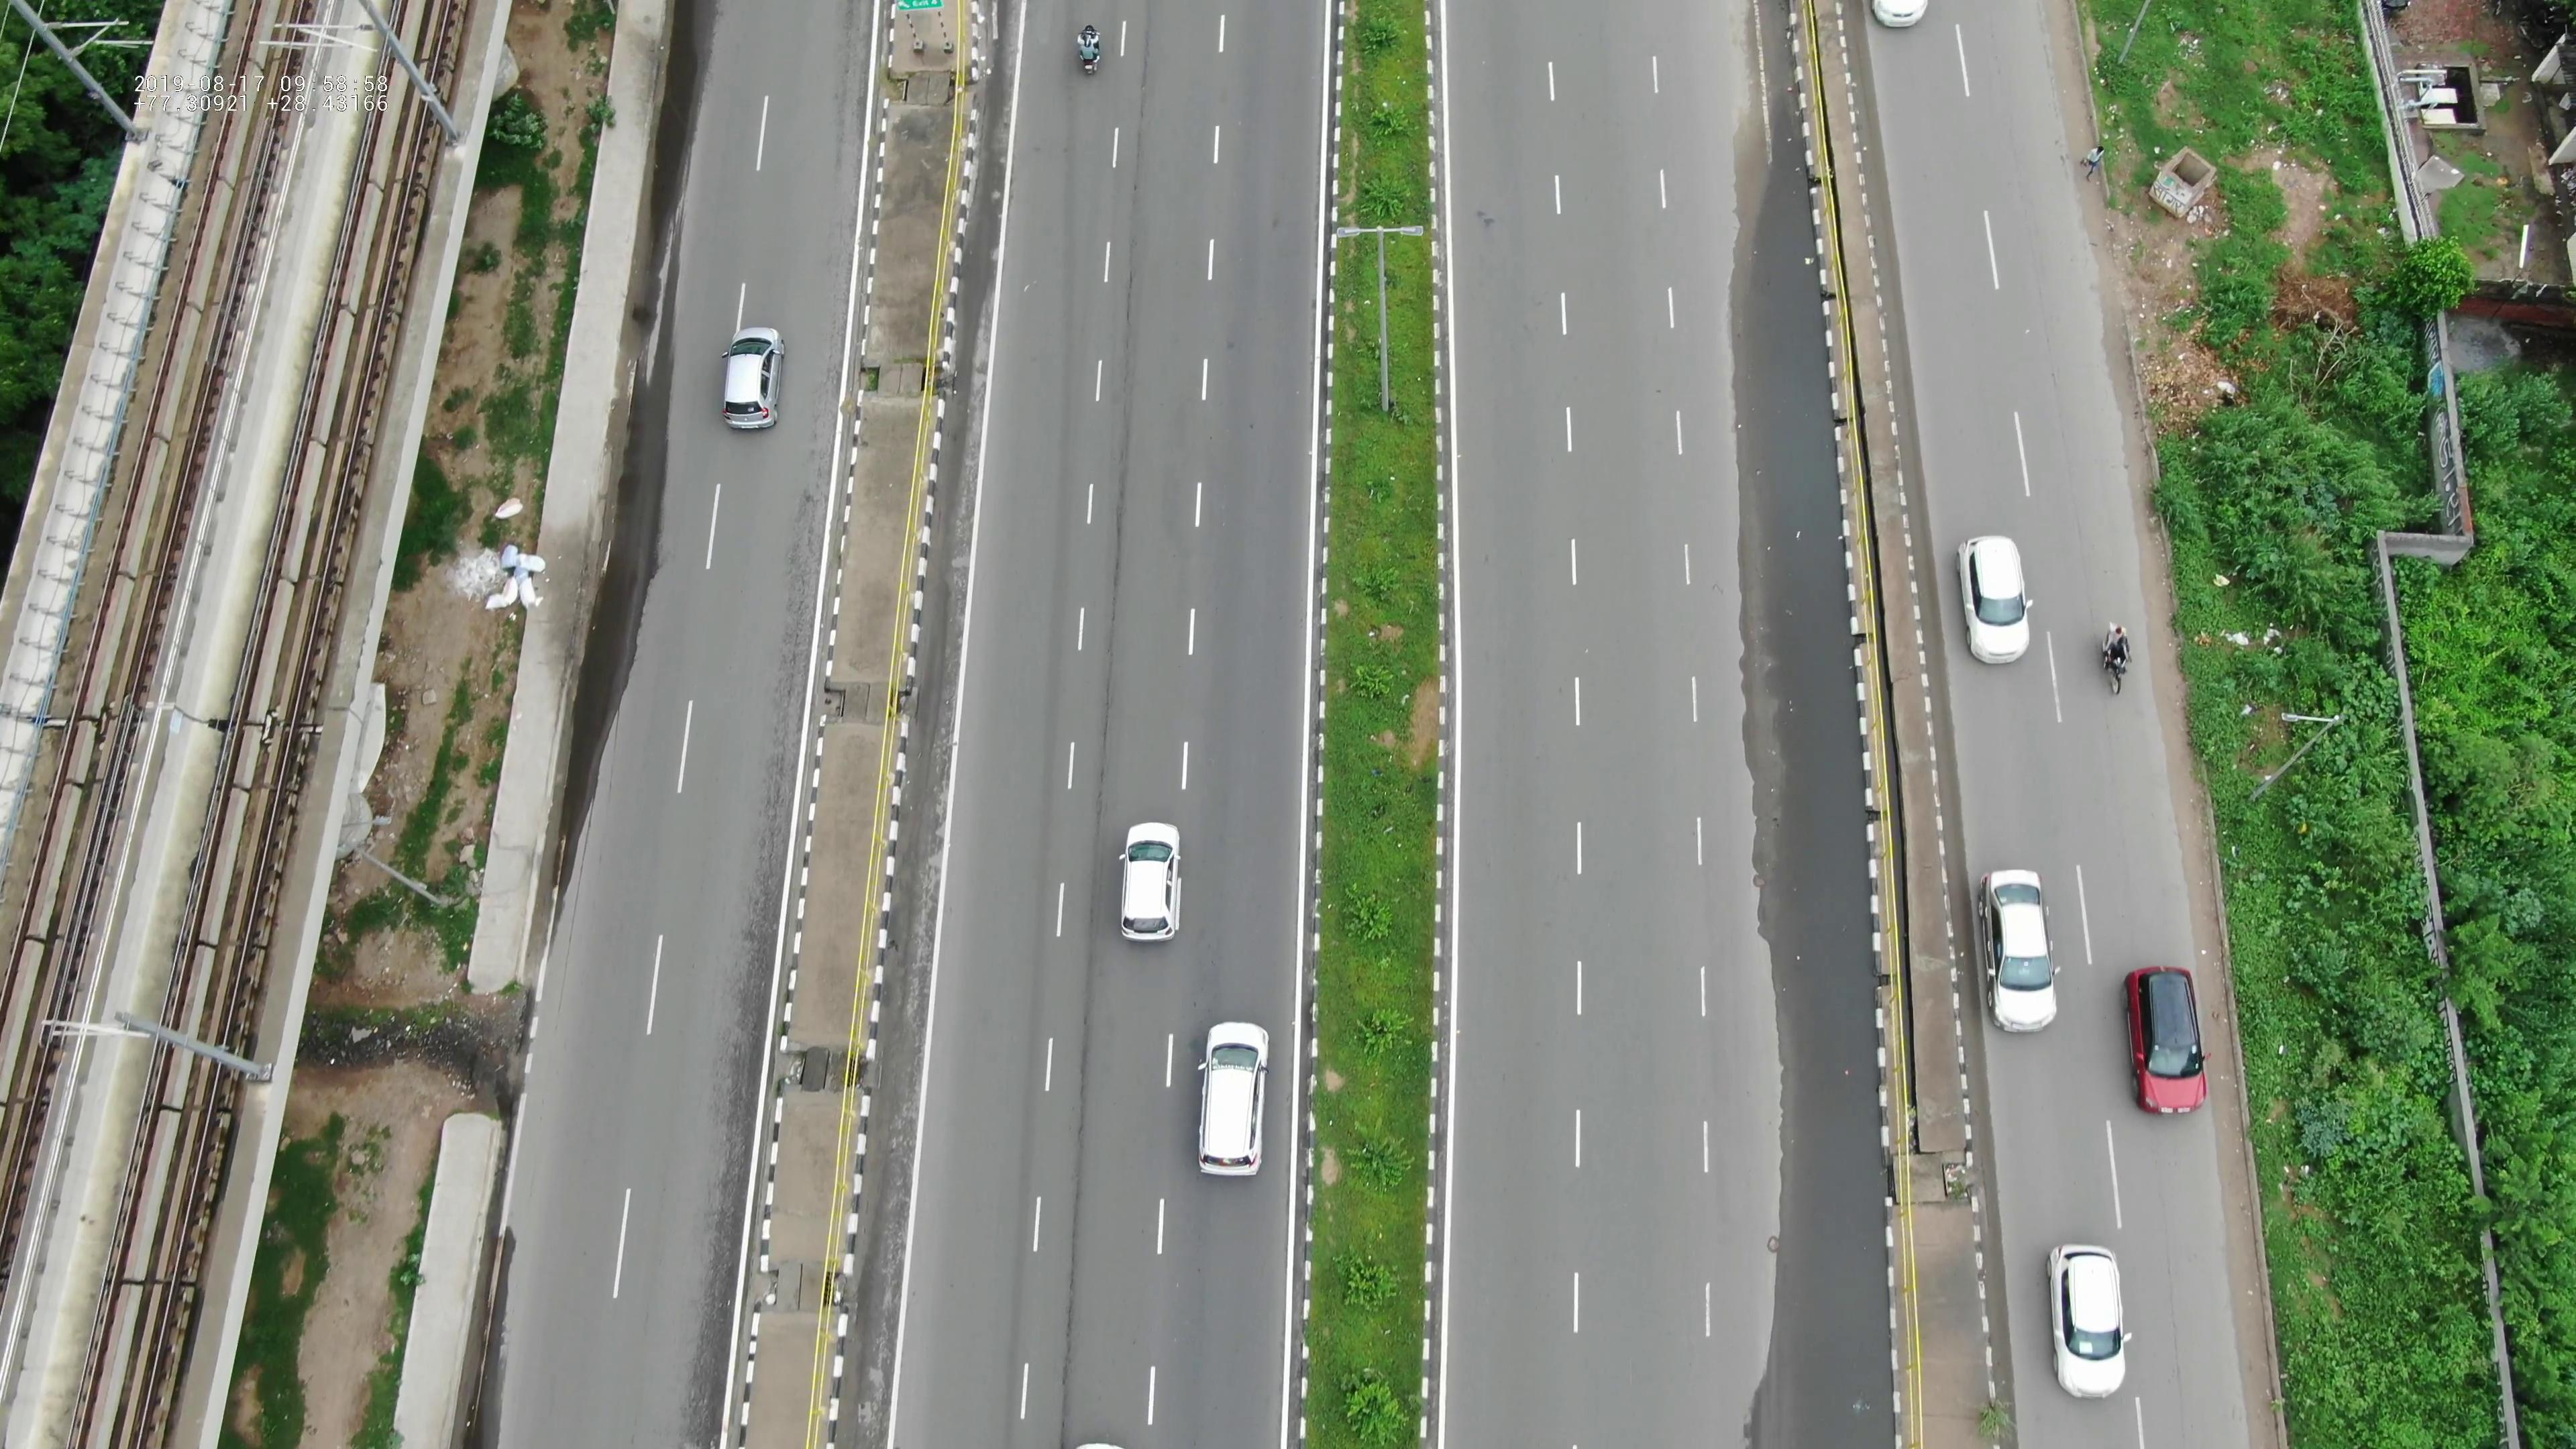Waterlogging: (1713, 717, 1902, 1447), (1713, 122, 1877, 699), (547, 630, 642, 934), (577, 389, 685, 626)
